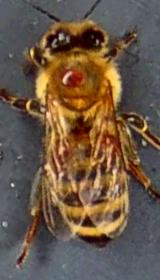varroa_mite: (54, 66, 96, 90)
